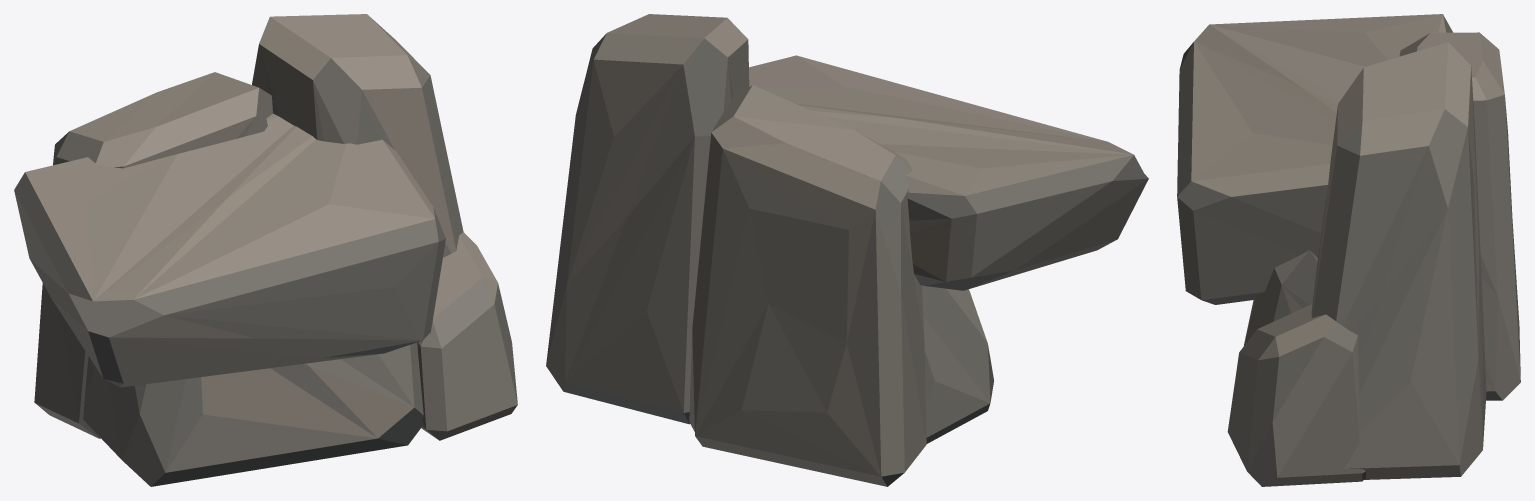
The model's file is verdant-cliff-ledge.glb.
3 views of the same model, side by side, from view 1: azimuth 30°, elevation 25°; view 2: azimuth 150°, elevation 25°; view 3: azimuth 270°, elevation 25° (orthographic). The views are drawn at different scales.
Visible parts, largest first — view 1: verdant-cliff-ledge; view 2: verdant-cliff-ledge; view 3: verdant-cliff-ledge.
Boxes of the visible parts, box(x1,y1,x2,y2) form: verdant-cliff-ledge: box(14, 14, 517, 486); verdant-cliff-ledge: box(546, 14, 1148, 486); verdant-cliff-ledge: box(1177, 14, 1520, 486).
Size of the model in its own units: 3.28 by 2.47 by 2.07.
Materials: 1 (1 with a texture image).
